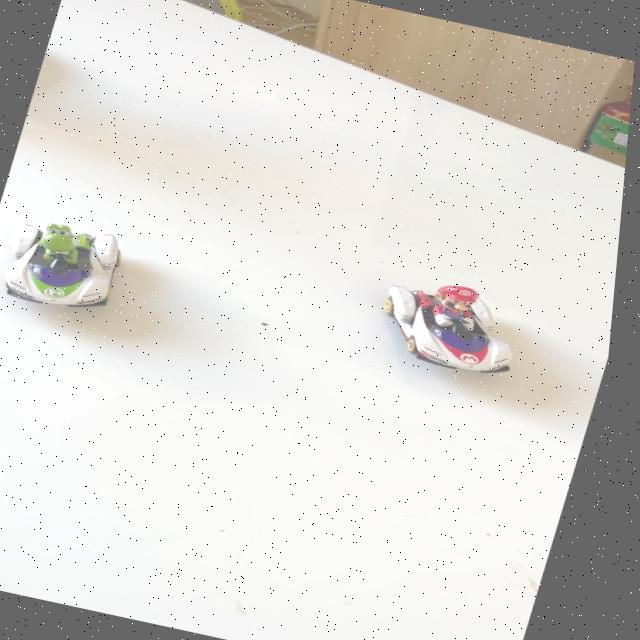mario: (354, 261, 536, 394)
yoshi: (0, 198, 164, 334)
